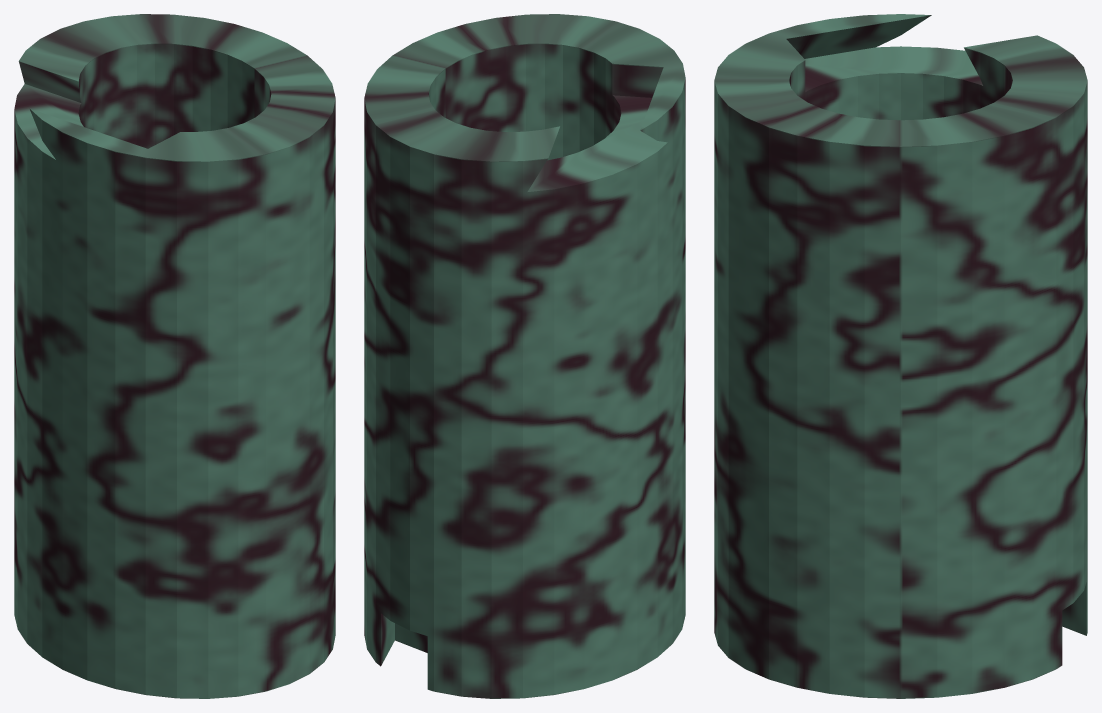
3 renders of one model, left to right at view 1: azimuth 30°, elevation 25°; view 2: azimuth 150°, elevation 25°; view 3: azimuth 270°, elevation 25°, orthographic. The views are drawn at different scales.
Visible parts, largest first — view 1: geometry_0; view 2: geometry_0; view 3: geometry_0.
Part boxes in pixels (bbox=[...]): geometry_0: bbox=[14, 14, 335, 698]; geometry_0: bbox=[364, 14, 685, 698]; geometry_0: bbox=[714, 14, 1087, 698].
Size of the model in its own units: 0.6695 by 1.3 by 0.795.
Materials: 1 (1 with a texture image).
